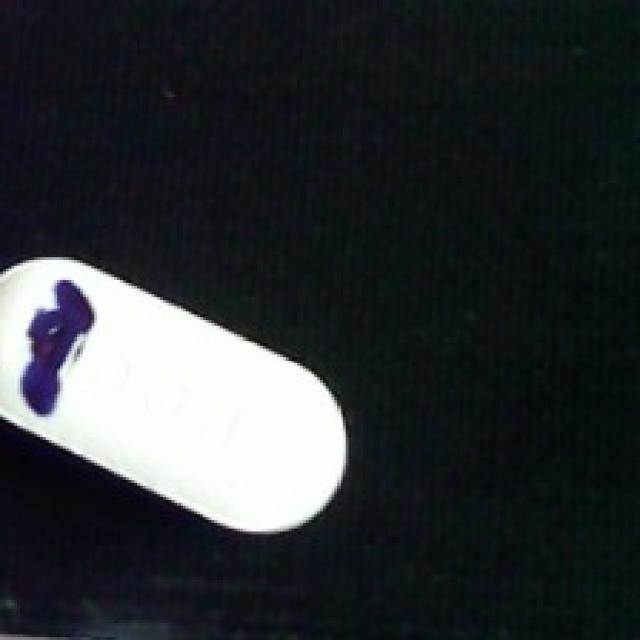defected: (0, 254, 354, 542)
